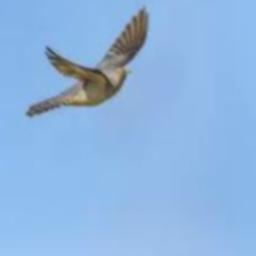Cuckoo: (24, 6, 148, 116)
